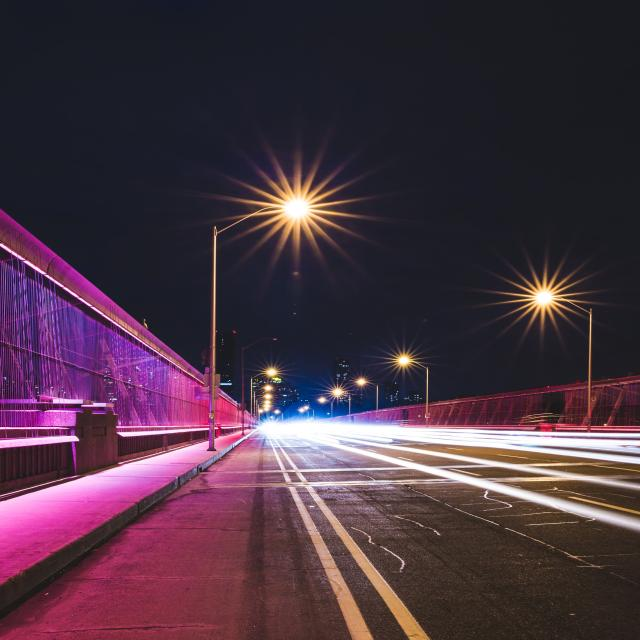Street Light: (207, 198, 312, 453), (536, 289, 594, 433), (398, 356, 429, 424), (249, 368, 277, 431), (356, 378, 379, 422), (252, 384, 271, 426), (334, 389, 351, 420)
